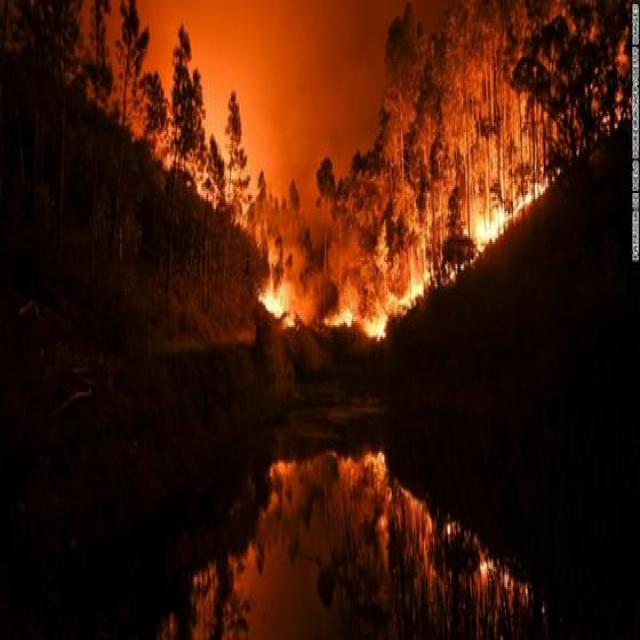fire: (259, 166, 564, 333)
smoke: (139, 7, 398, 189)
